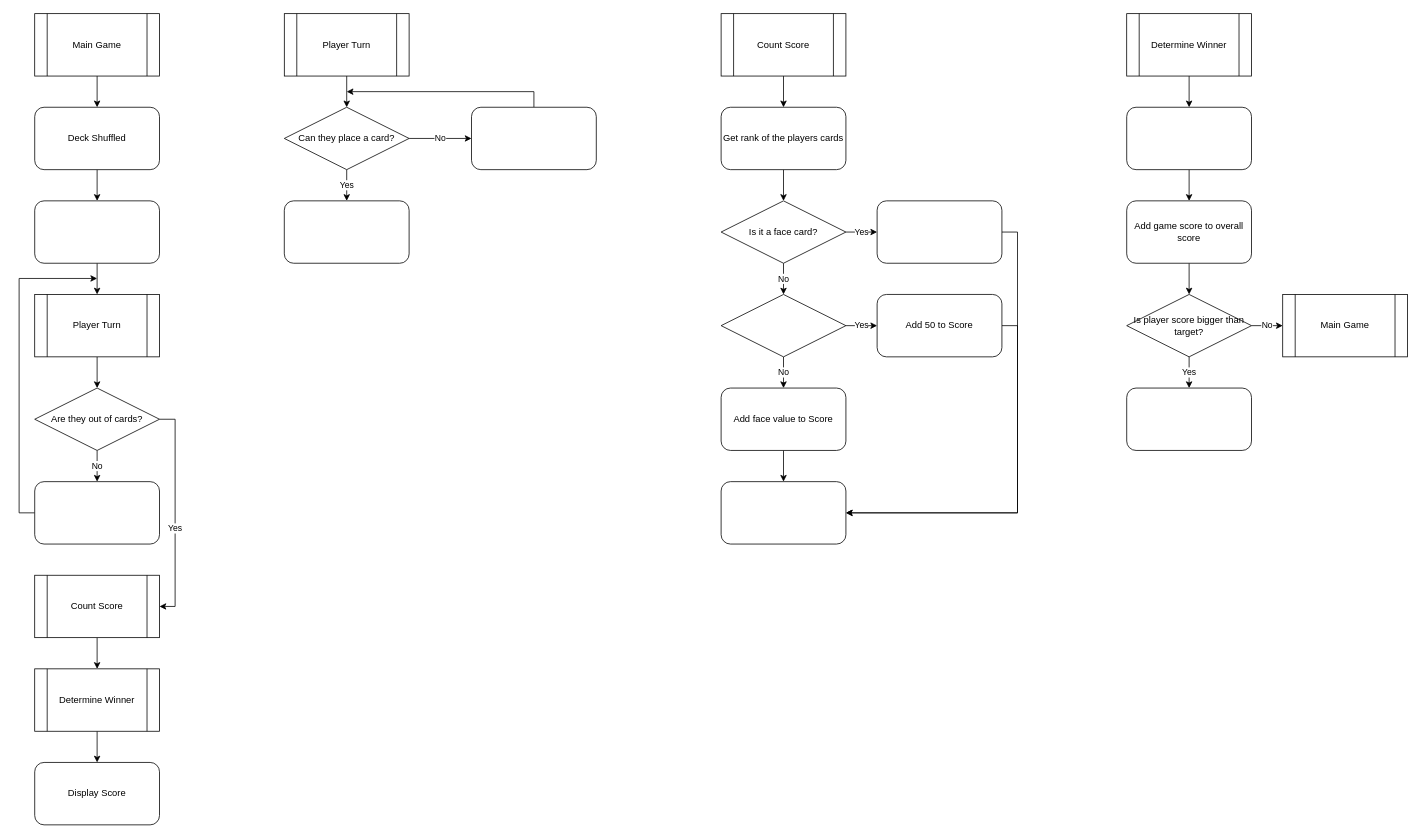
Some shapes in this 1421 by 838 pixel diagram are drawn without their labels. Each missing label, with the centre of its shape:
Add 10 to Score: (x=939, y=231)
Cards Distributed to players: (x=97, y=231)
Is it an 8?: (x=783, y=325)
Next player: (x=97, y=512)
Place the card: (x=346, y=231)
Player draws card: (x=533, y=138)
Return Score: (x=783, y=512)
Return Winner: (x=1189, y=418)
Target = 50 * number of players: (x=1189, y=138)
